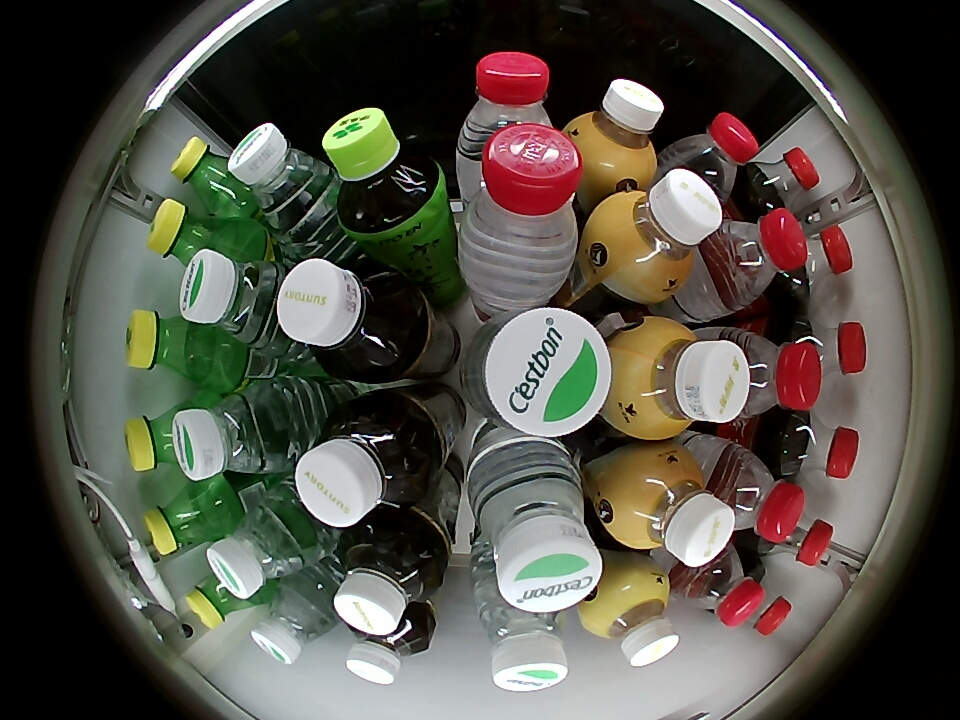asamu: (617, 318, 751, 439), (597, 168, 724, 293), (609, 452, 736, 566), (568, 78, 665, 181), (582, 571, 679, 669)
kele-b: (778, 411, 859, 481), (785, 225, 854, 300), (745, 146, 820, 212), (793, 316, 866, 379), (766, 504, 834, 566), (746, 567, 793, 637)
nongfushanquan: (459, 122, 584, 294), (706, 209, 809, 314), (458, 51, 554, 158), (706, 444, 805, 543), (726, 327, 822, 418), (666, 112, 759, 199), (671, 548, 765, 628)
qinningshui: (180, 247, 286, 355)
wulongcha: (276, 258, 417, 381), (295, 402, 431, 527), (333, 527, 439, 635), (346, 608, 435, 686)
xuebi-b: (125, 309, 216, 382), (146, 200, 235, 274), (171, 135, 247, 217), (141, 483, 225, 557), (125, 404, 191, 474), (185, 567, 255, 630)
yibao: (465, 442, 602, 616), (466, 307, 611, 439), (228, 124, 335, 247), (207, 485, 322, 599), (173, 385, 290, 482), (473, 576, 570, 692), (251, 580, 334, 665)
yitengyuan: (323, 108, 444, 239)
